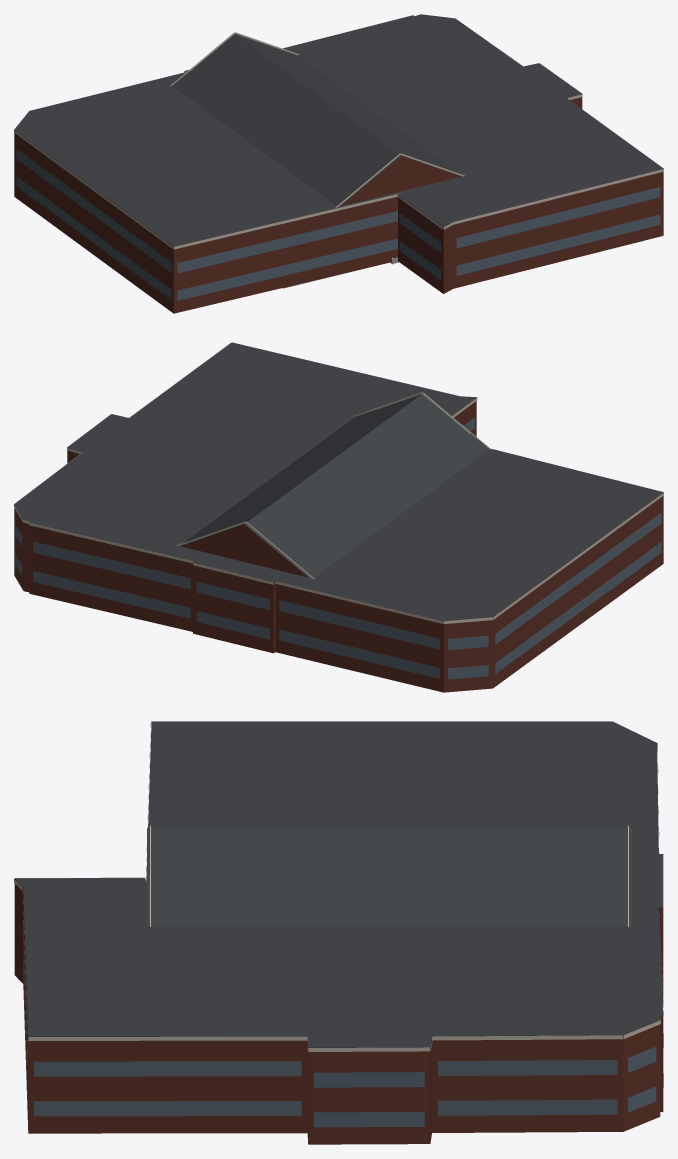
File: full-counsel-christian-fellowship-nlr.glb
3 views of the same model, one above another, from view 1: azimuth 30°, elevation 25°; view 2: azimuth 150°, elevation 25°; view 3: azimuth 270°, elevation 25° (orthographic). The views are drawn at different scales.
Parts seen in each view (by area): view 1: full_counsel_christian_fellowship_nlr; view 2: full_counsel_christian_fellowship_nlr; view 3: full_counsel_christian_fellowship_nlr.
Boxes of the visible parts, left/top/right/bottom form: full_counsel_christian_fellowship_nlr: left=14, top=14, right=663, bottom=313; full_counsel_christian_fellowship_nlr: left=14, top=342, right=663, bottom=692; full_counsel_christian_fellowship_nlr: left=14, top=721, right=663, bottom=1144.
Bounding box in the file's own units: 79.38 × 17.51 × 66.74.
